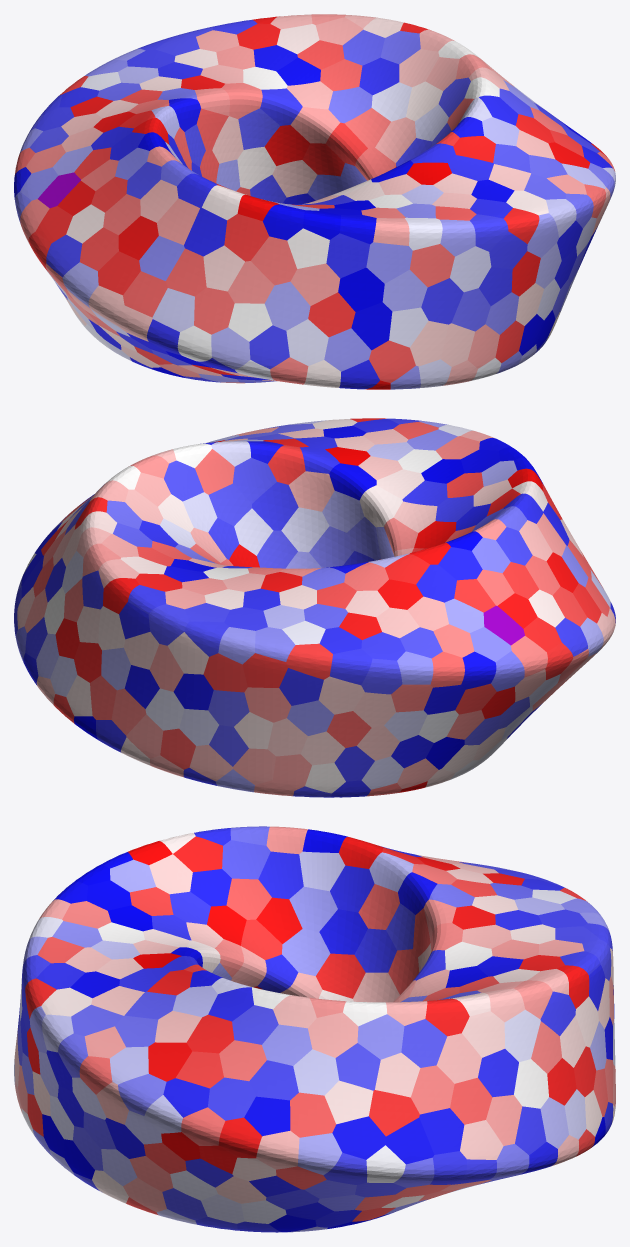
Rendered from Ours_600_mobius1_Iter7_RVD.obj.
3 renders of one model, top to bottom at view 1: azimuth 30°, elevation 25°; view 2: azimuth 150°, elevation 25°; view 3: azimuth 270°, elevation 25°, orthographic. The views are drawn at different scales.
Visible parts, largest first — view 1: 3D_Object; view 2: 3D_Object; view 3: 3D_Object.
Boxes of the visible parts, x1,y1,x2,y2 form: 3D_Object: (14, 14, 615, 389); 3D_Object: (14, 418, 615, 797); 3D_Object: (14, 826, 615, 1232).
Bounding box in the file's own units: 6.8 × 2.63 × 6.26.
1 material, 1 textured.
